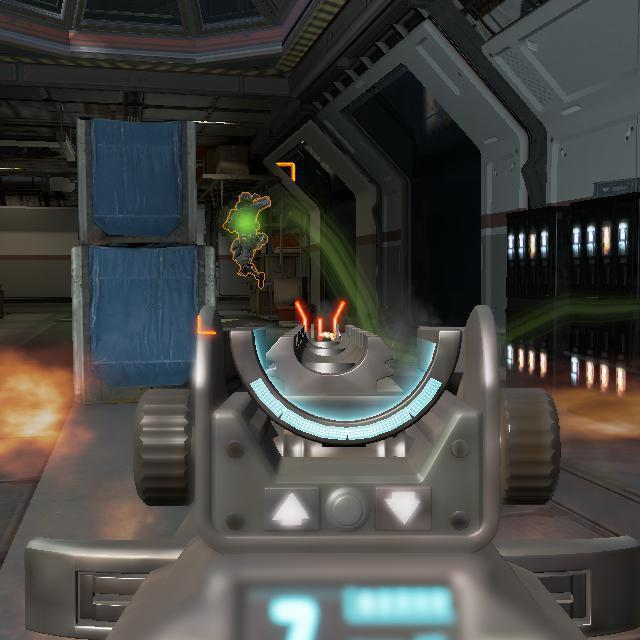avatar: (221, 190, 273, 290)
object: (233, 207, 261, 238)
